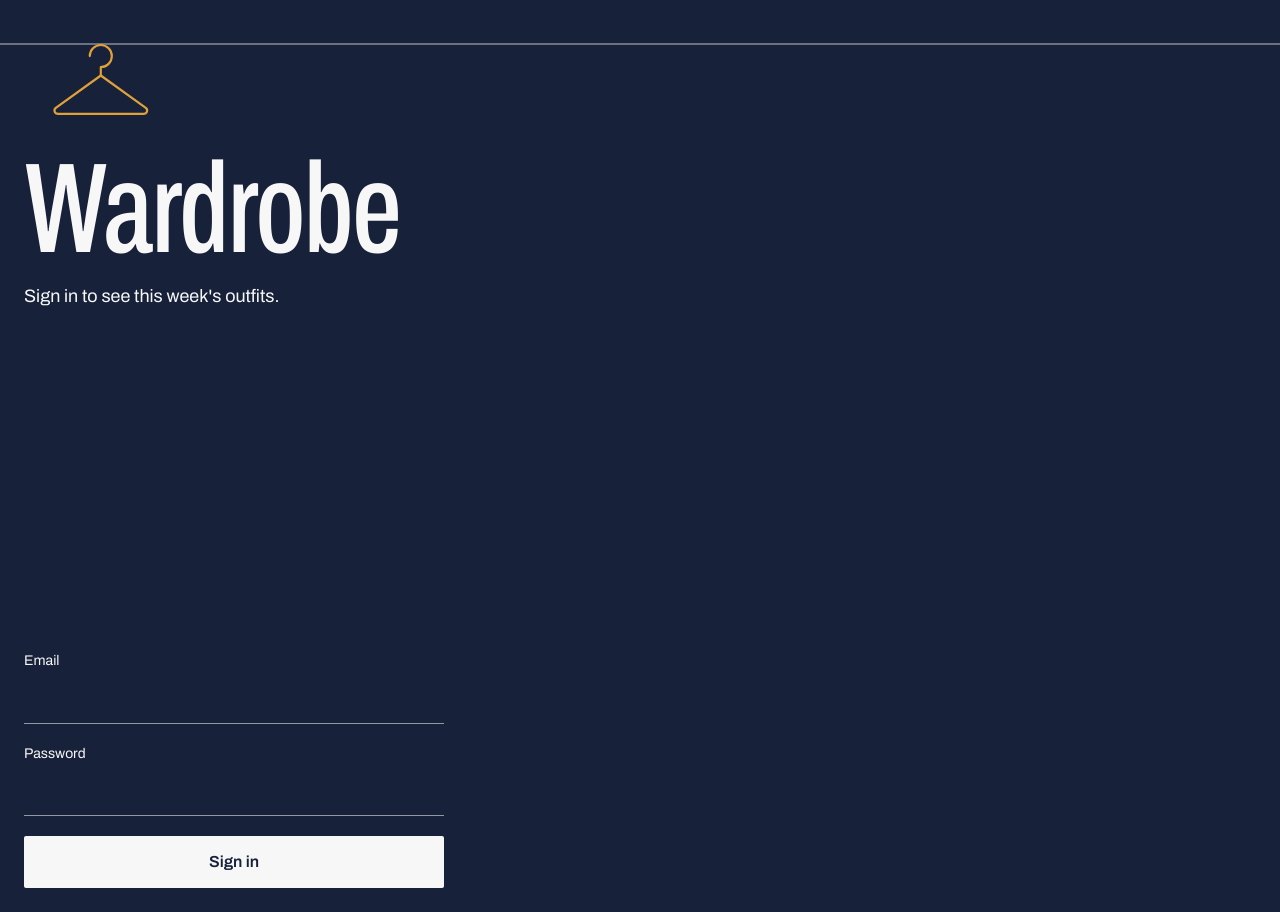
when signed out › explains wrong details
The image size is (1280, 912).
Type "test@example.test" into the field labelled "Email".
click(234, 700); type("test@example.test")  # box x1=24 y1=676 x2=444 y2=724
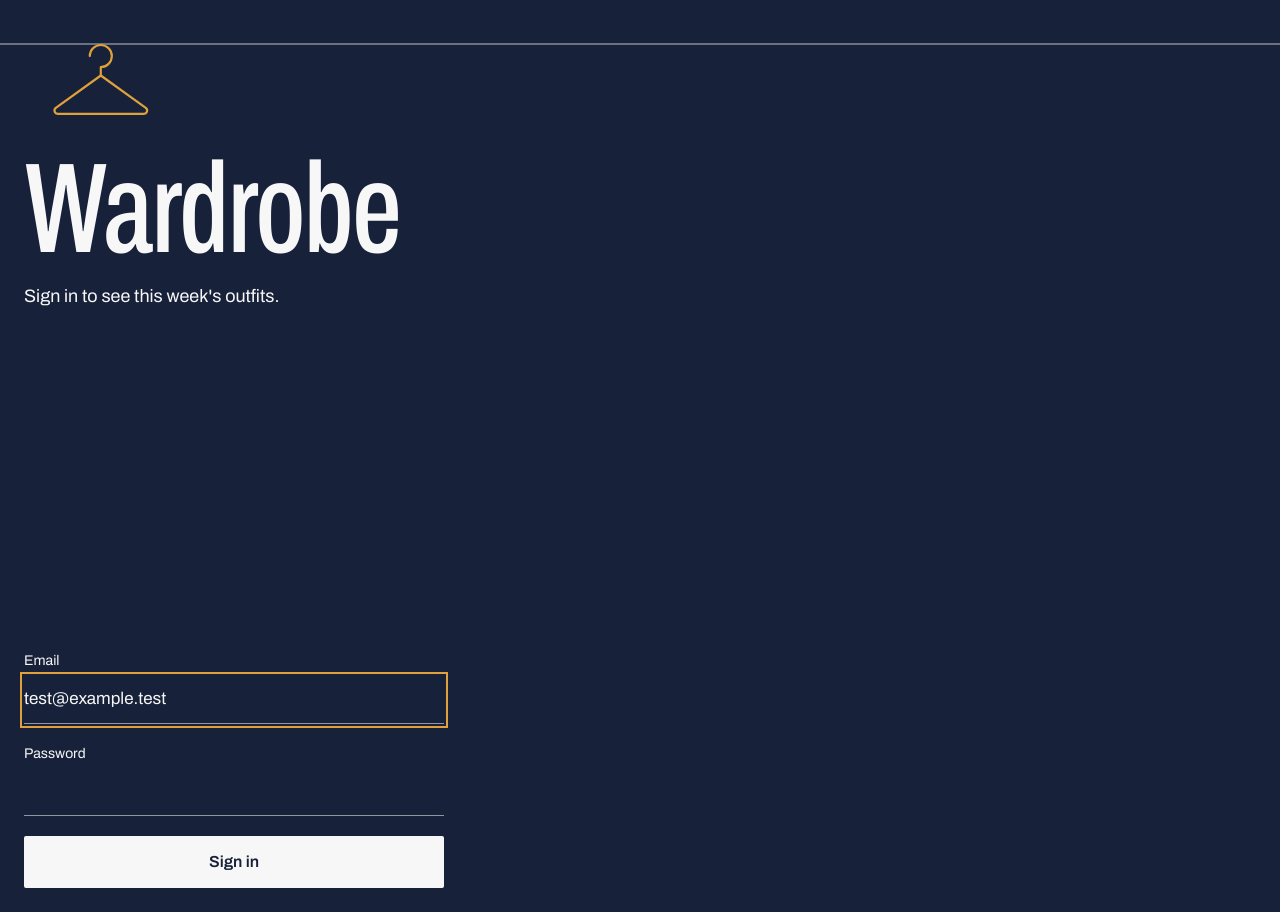
Type "test-value" into the password field labelled "Password".
click(234, 792); type("test-value")  # box x1=24 y1=768 x2=444 y2=816
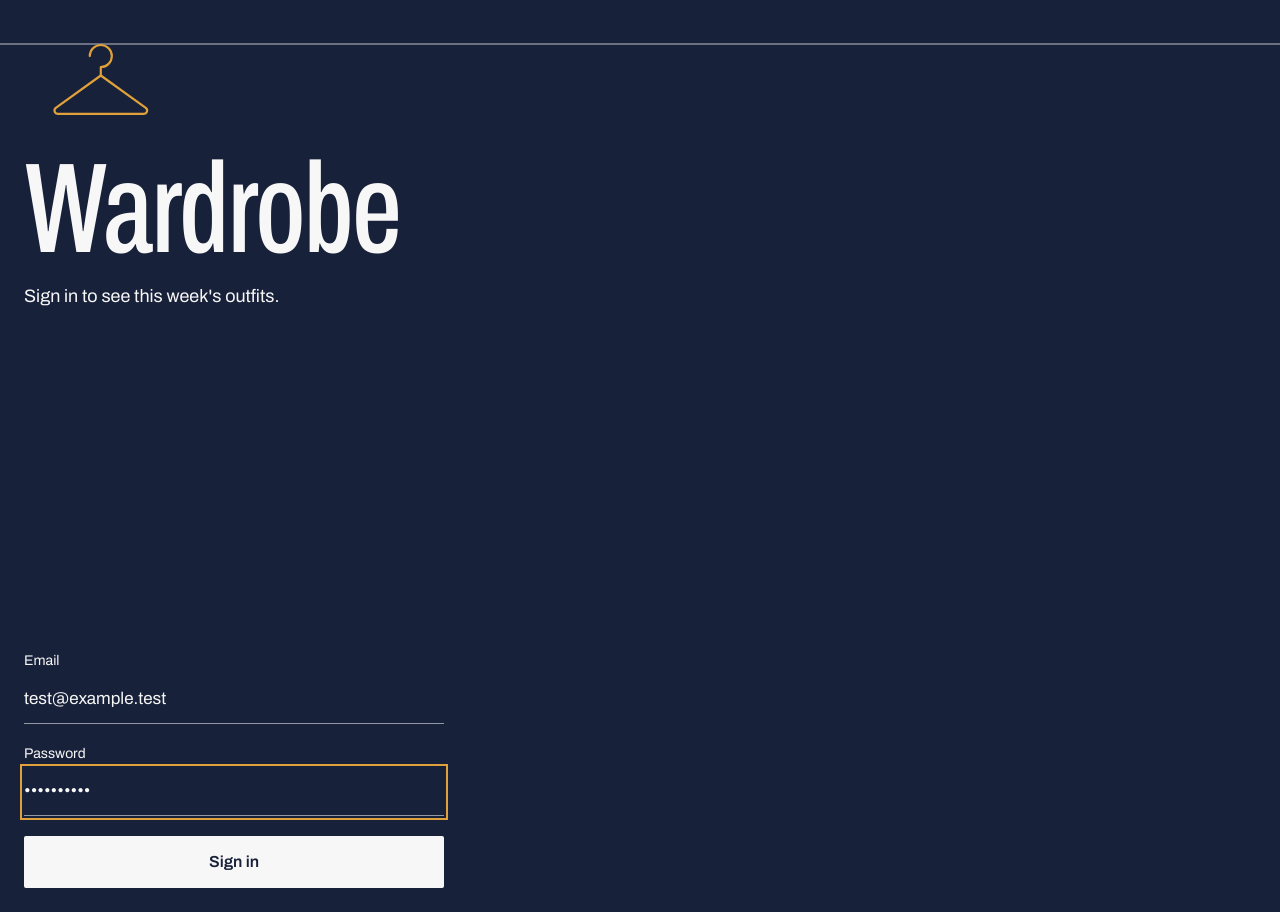
Click the button "Sign in".
click(234, 862)  # box x1=24 y1=836 x2=444 y2=888
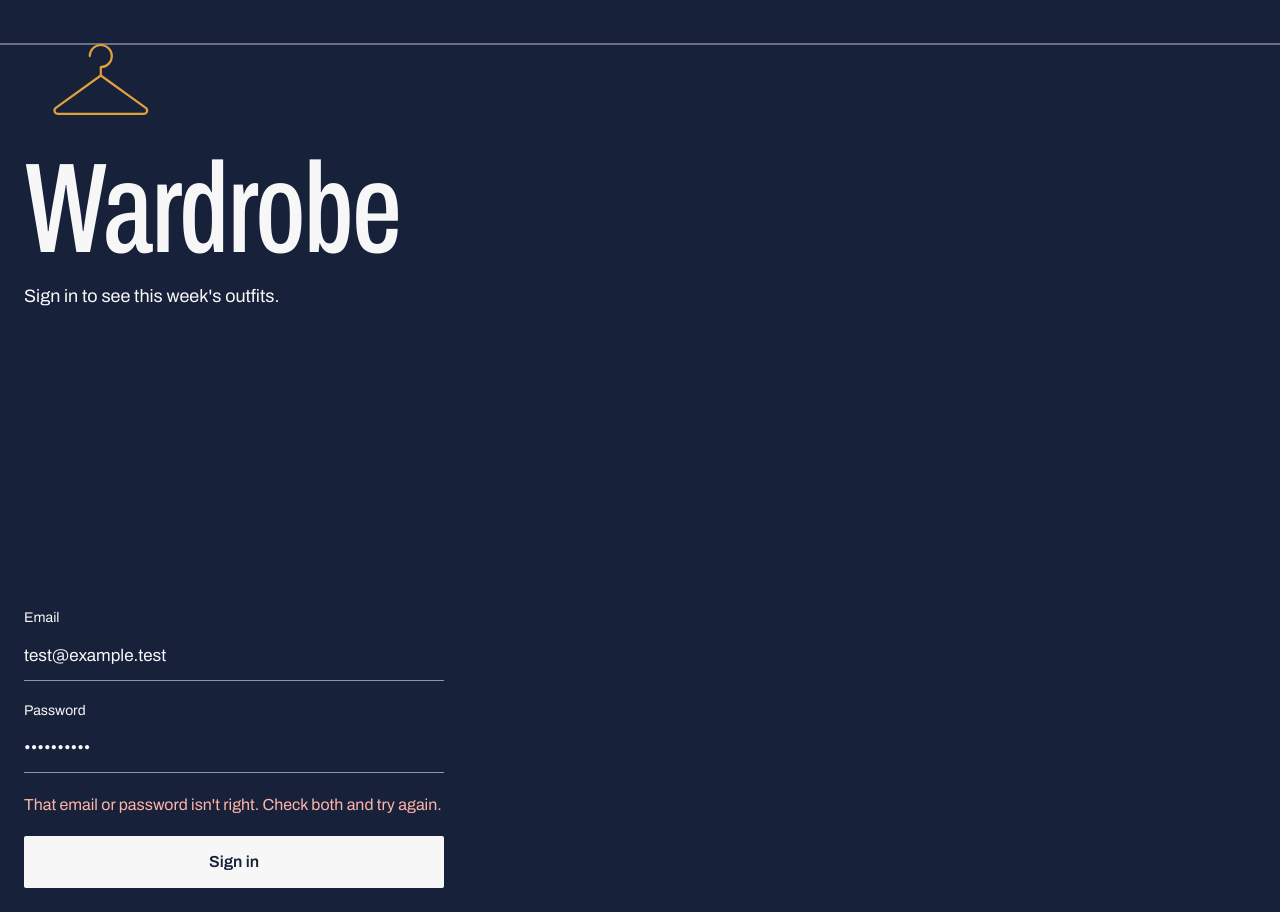
Check: the message shows "isn't right", box x1=24 y1=796 x2=442 y2=813
